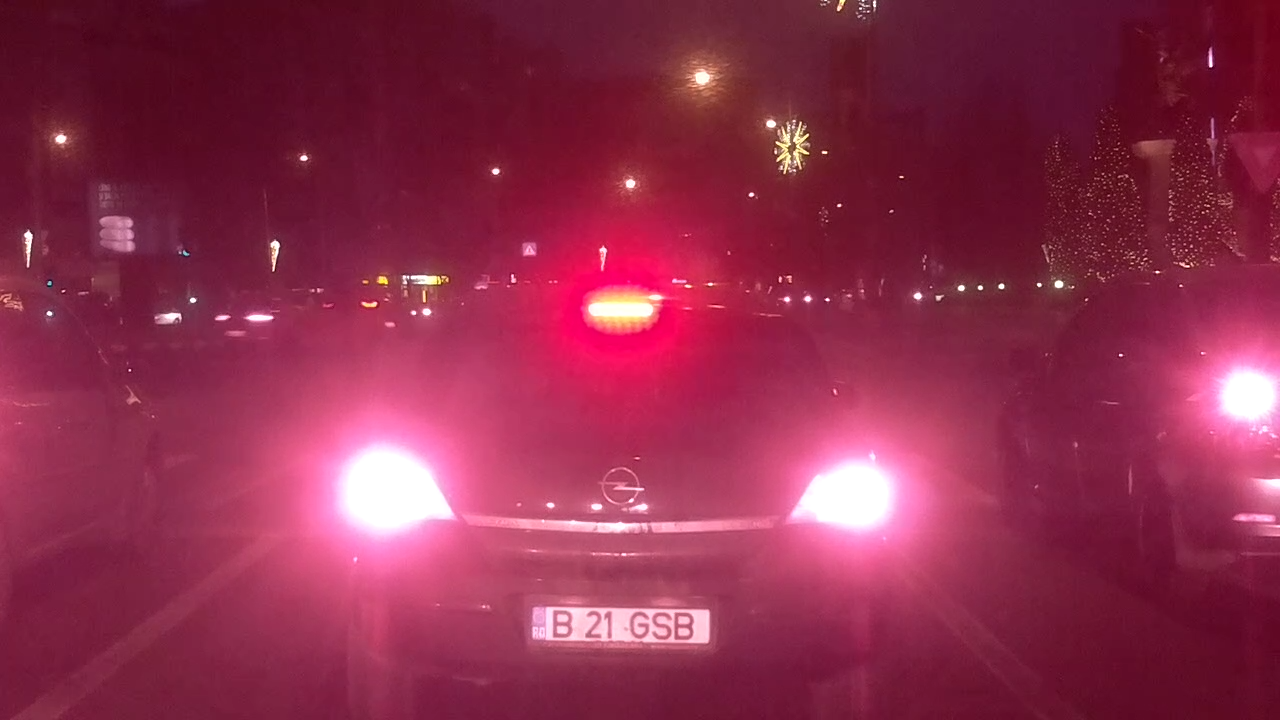license-plate: (526, 600, 714, 648)
